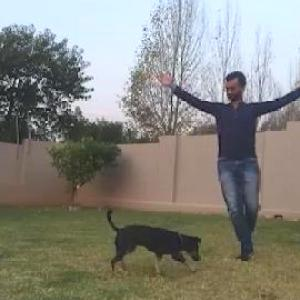takeoff: (159, 71, 299, 260)
